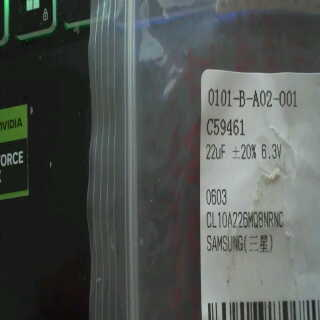22uF: (202, 143, 230, 162)
